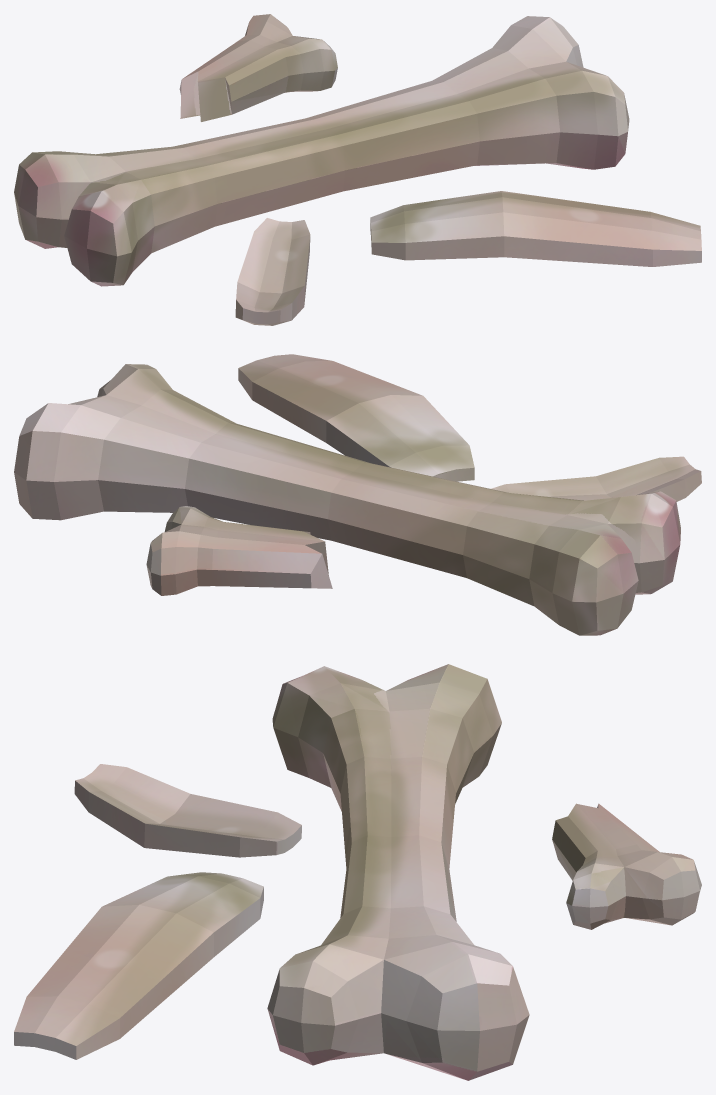
Rendered from Bone.fbx.
3 views of the same model, one above another, from view 1: azimuth 30°, elevation 25°; view 2: azimuth 150°, elevation 25°; view 3: azimuth 270°, elevation 25° (orthographic). The views are drawn at different scales.
Parts seen in each view (by area): view 1: Cube; view 2: Cube; view 3: Cube.
Part boxes in pixels (<box>): Cube: <box>14,14,701,325</box>; Cube: <box>14,354,701,635</box>; Cube: <box>14,664,701,1080</box>.
Bounding box in the file's own units: 419 × 76.14 × 375.
Materials: 1 (1 with a texture image).
